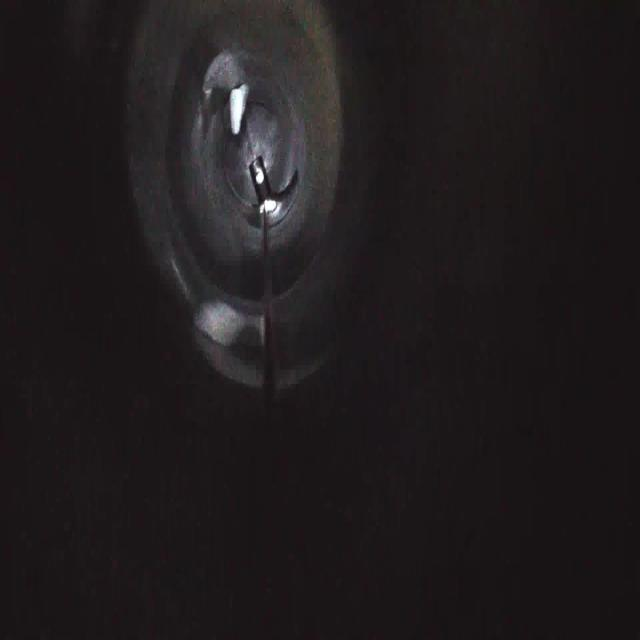impurity: (221, 69, 257, 142)
